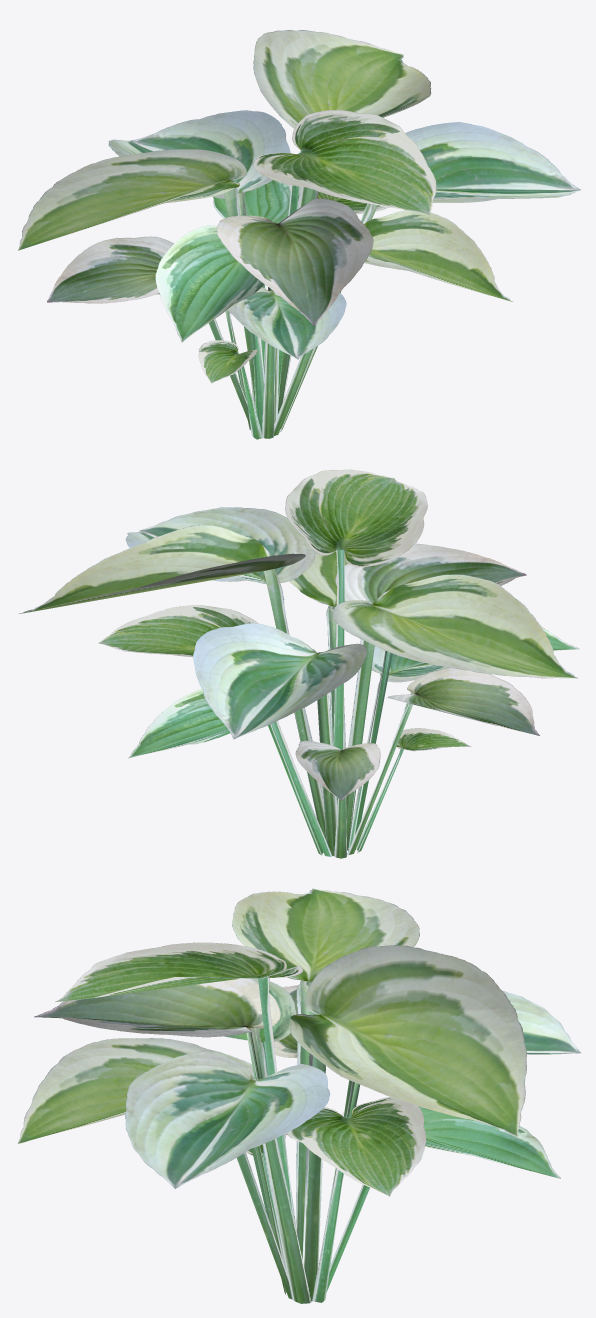
File: plant_small_wg_00B2.fbx
The picture shows the model from 3 angles, top to bottom: view 1: azimuth 30°, elevation 25°; view 2: azimuth 150°, elevation 25°; view 3: azimuth 270°, elevation 25°; orthographic projection. The views are drawn at different scales.
Parts seen in each view (by area): view 1: plant_small_wg_00B2; view 2: plant_small_wg_00B2; view 3: plant_small_wg_00B2.
Part boxes in pixels (<box>): plant_small_wg_00B2: <box>18,30,580,439</box>; plant_small_wg_00B2: <box>18,469,579,858</box>; plant_small_wg_00B2: <box>17,888,580,1303</box>.
Bounding box in the file's own units: 71.5 × 45.61 × 60.74.
1 material, 1 textured.
